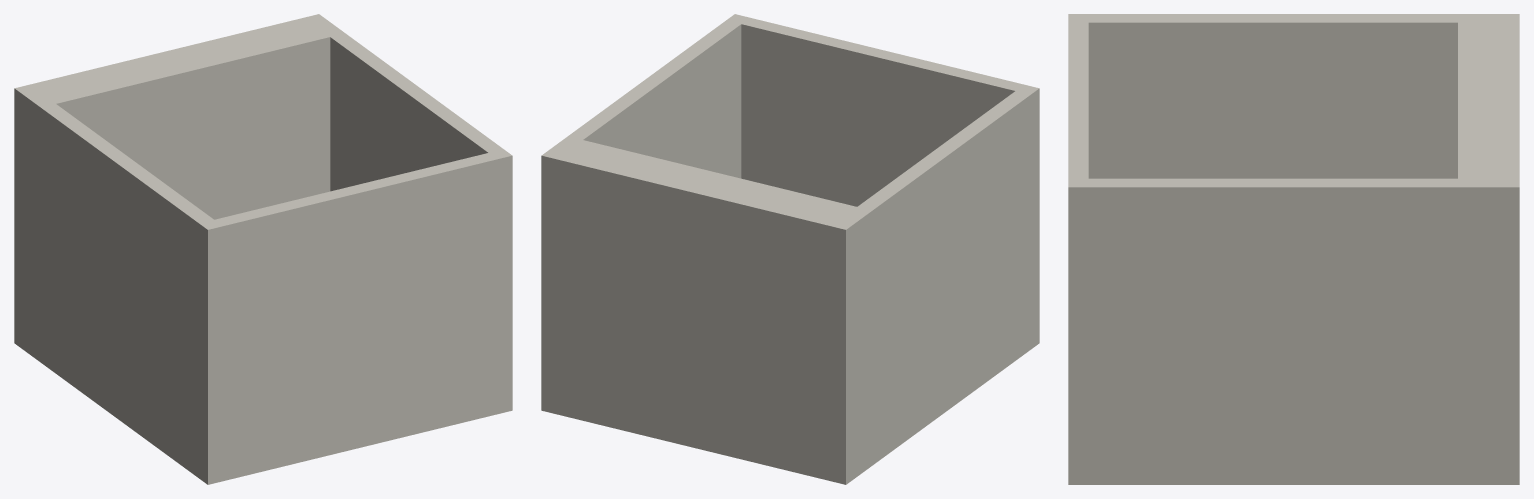
File: white_shelf1.fbx
3 renders of one model, left to right at view 1: azimuth 30°, elevation 25°; view 2: azimuth 150°, elevation 25°; view 3: azimuth 270°, elevation 25°, orthographic. The views are drawn at different scales.
Parts seen in each view (by area): view 1: Cube; view 2: Cube; view 3: Cube.
Boxes of the visible parts, left/top/right/bottom form: Cube: left=14, top=14, right=512, bottom=484; Cube: left=541, top=14, right=1039, bottom=484; Cube: left=1068, top=14, right=1519, bottom=484.
Size of the model in its own units: 200 by 160 by 220.
